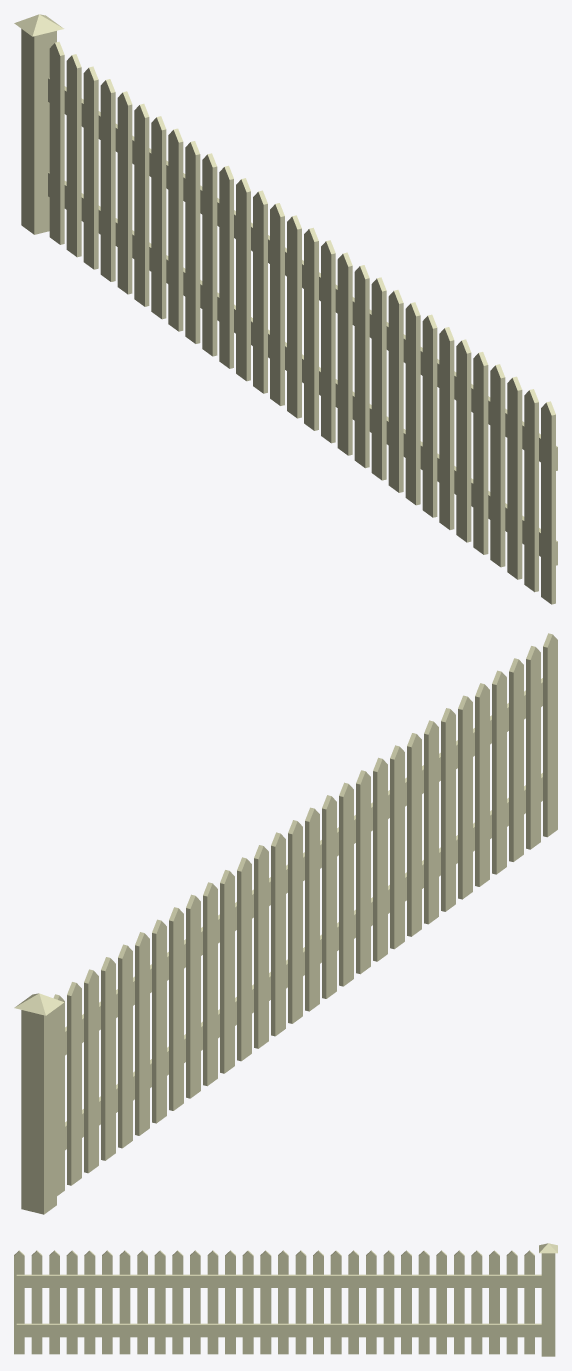
Rendered from picket-fence.fbx.
3 views of the same model, one above another, from view 1: azimuth 30°, elevation 25°; view 2: azimuth 150°, elevation 25°; view 3: azimuth 270°, elevation 25° (orthographic). The views are drawn at different scales.
Parts seen in each view (by area): view 1: picket-fence; view 2: picket-fence; view 3: picket-fence.
Part boxes in pixels (box(x1,y1,x2,y2)): picket-fence: box(14, 14, 557, 604); picket-fence: box(14, 633, 557, 1214); picket-fence: box(14, 1243, 557, 1356).
Bounding box in the file's own units: 35.36 × 226 × 1005.
